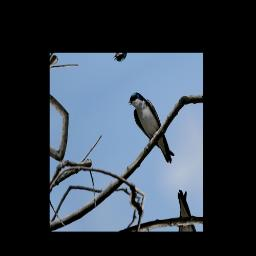Swallow: (126, 83, 176, 175)
